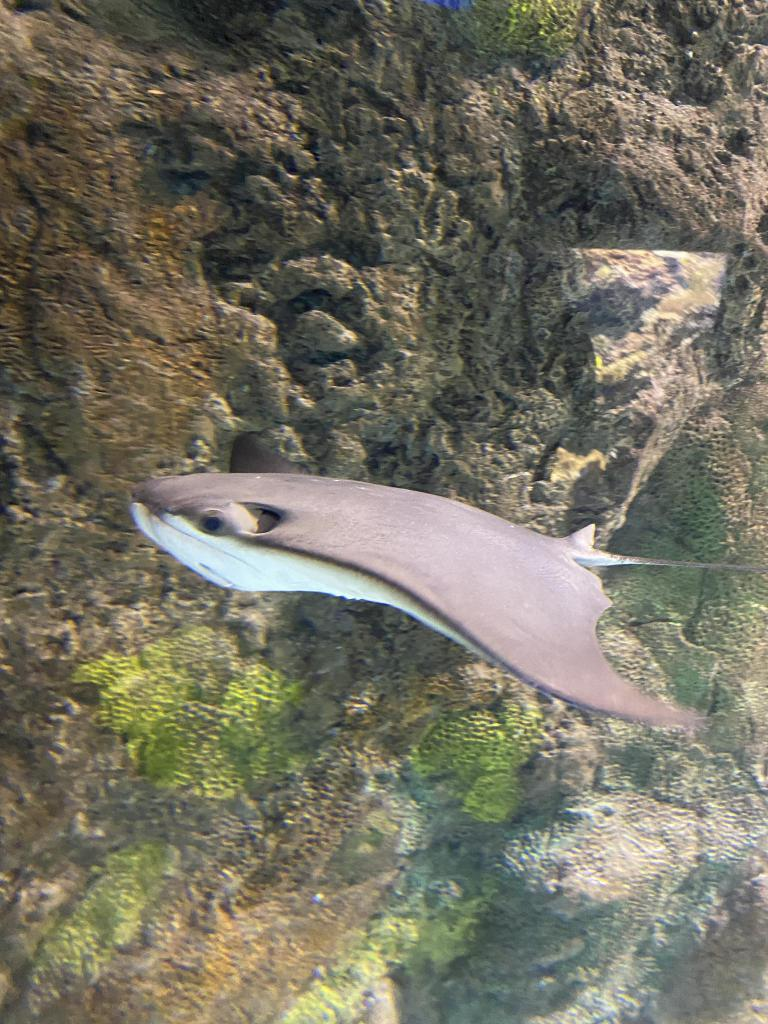stingray: (128, 470, 694, 734)
